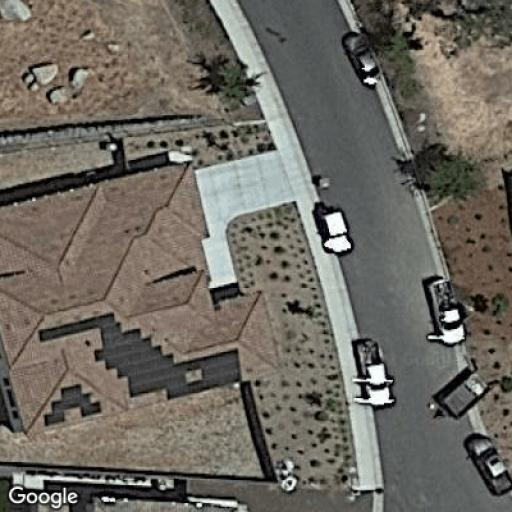solar-panel: (93, 327, 242, 400), (36, 310, 126, 344), (42, 383, 103, 427)
